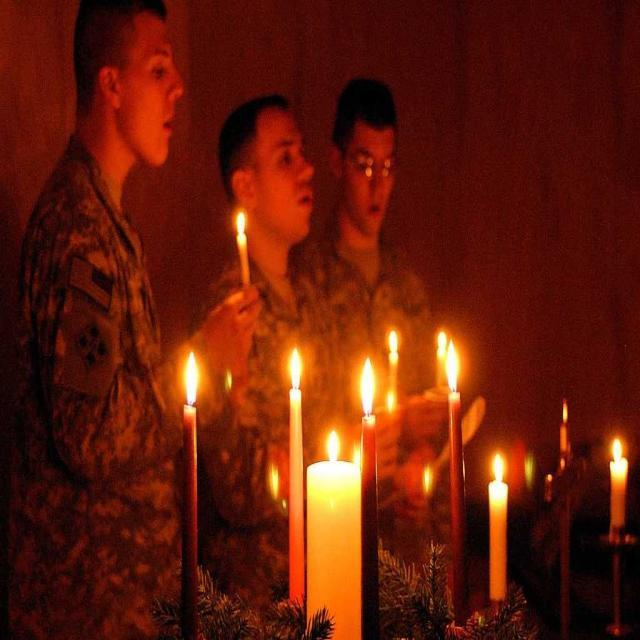Fire: (360, 351, 374, 416), (183, 356, 198, 401), (288, 338, 302, 382), (447, 345, 458, 391), (323, 429, 339, 457), (610, 432, 622, 458), (423, 466, 433, 494), (492, 453, 504, 476), (388, 325, 396, 354), (435, 327, 445, 348), (236, 210, 246, 230)
